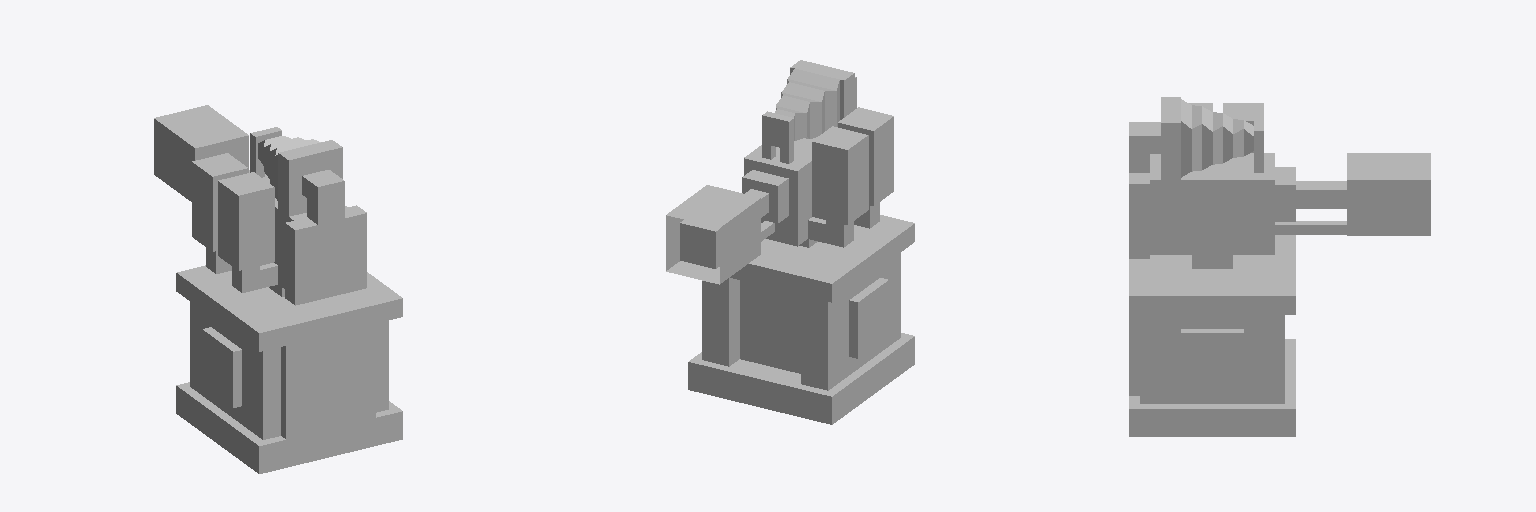
File: chem_turret_inv.obj
The picture shows the model from 3 angles: view 1: azimuth 30°, elevation 25°; view 2: azimuth 150°, elevation 25°; view 3: azimuth 270°, elevation 25°; orthographic projection.
Parts seen in each view (by area): view 1: base, gun; view 2: base, gun; view 3: gun, base.
Part boxes in pixels (x1,y1,x2,y2): base: (176, 265, 402, 473); gun: (154, 105, 366, 305); base: (688, 215, 914, 424); gun: (666, 60, 893, 284); gun: (1129, 97, 1430, 268); base: (1129, 235, 1295, 436).
Bounding box in the file's own units: 1 × 1.94 × 1.81.